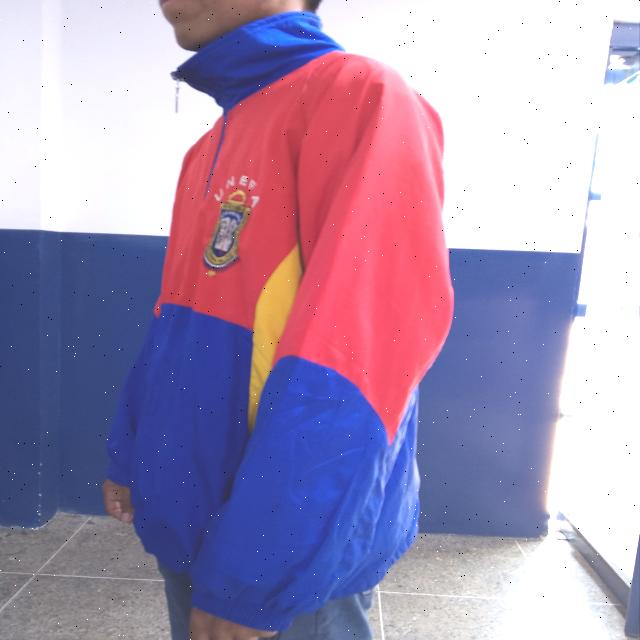chaqueta_unefa: (100, 11, 454, 634)
